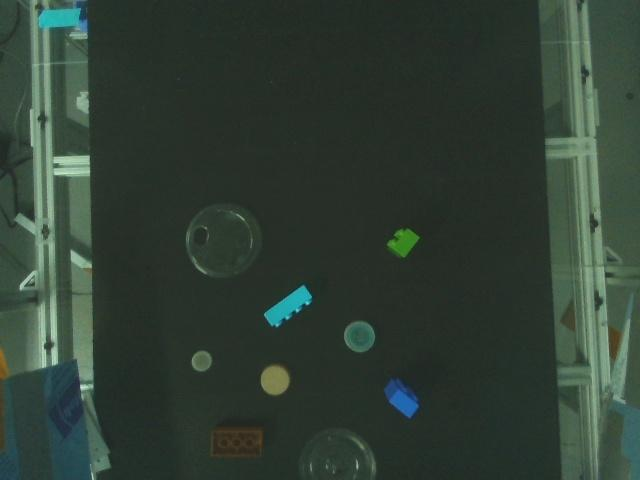plastic: (183, 200, 267, 280), (294, 423, 380, 480), (260, 280, 317, 331), (207, 423, 267, 463), (381, 374, 423, 422), (383, 224, 423, 261), (257, 361, 295, 398), (342, 317, 379, 355), (189, 346, 215, 374)
